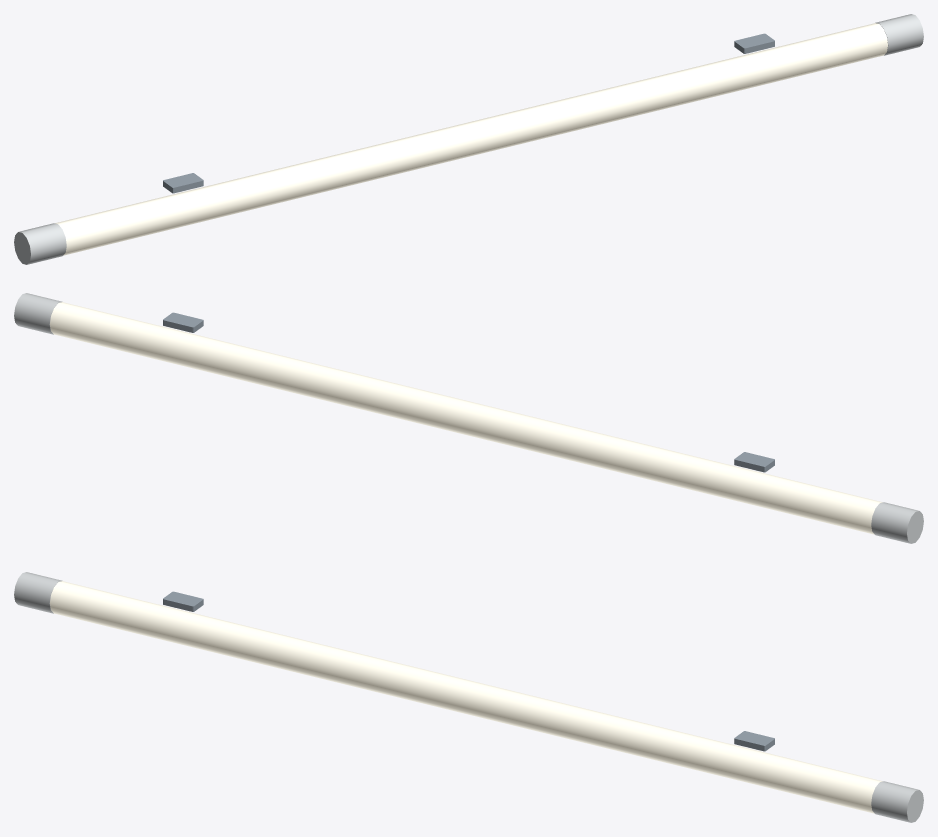
Rendered from source.glb.
The picture shows the model from 3 angles, top to bottom: view 1: azimuth 30°, elevation 25°; view 2: azimuth 150°, elevation 25°; view 3: azimuth 330°, elevation 25°; orthographic projection.
Visible parts, largest first — view 1: Emitters, 粉末涂层铝壳, 机加工金属; view 2: Emitters, 粉末涂层铝壳, 机加工金属; view 3: Emitters, 粉末涂层铝壳, 机加工金属.
Boxes of the visible parts, x1,y1,x2,y2 form: Emitters: (55, 23, 887, 255); 粉末涂层铝壳: (14, 14, 923, 264); 机加工金属: (163, 33, 774, 193); Emitters: (50, 302, 882, 534); 粉末涂层铝壳: (14, 293, 923, 543); 机加工金属: (163, 312, 774, 472); Emitters: (50, 581, 882, 813); 粉末涂层铝壳: (14, 572, 923, 822); 机加工金属: (163, 591, 774, 751).
Size of the model in its own units: 0.582 by 0.0276 by 0.0193.
